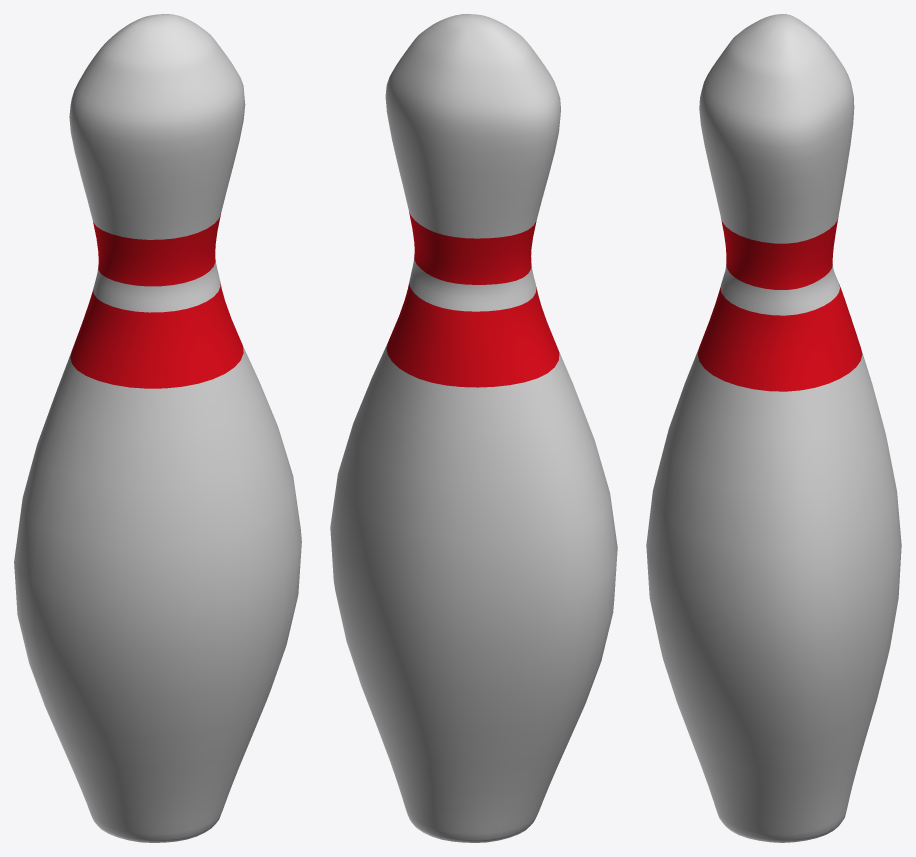
The model's file is BowlingPin.fbx.
3 views of the same model, side by side, from view 1: azimuth 30°, elevation 25°; view 2: azimuth 150°, elevation 25°; view 3: azimuth 270°, elevation 25° (orthographic).
Parts seen in each view (by area): view 1: Circle; view 2: Circle; view 3: Circle.
Part boxes in pixels (x1,y1,x2,y2): Circle: (14, 14, 301, 842); Circle: (330, 14, 617, 842); Circle: (646, 14, 901, 842).
Size of the model in its own units: 122 by 358 by 103.
